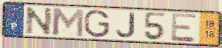5: (143, 11, 166, 41)
E: (171, 12, 199, 44)
G: (83, 9, 111, 39)
J: (116, 12, 136, 39)
M: (51, 7, 86, 38)
N: (24, 6, 54, 36)
